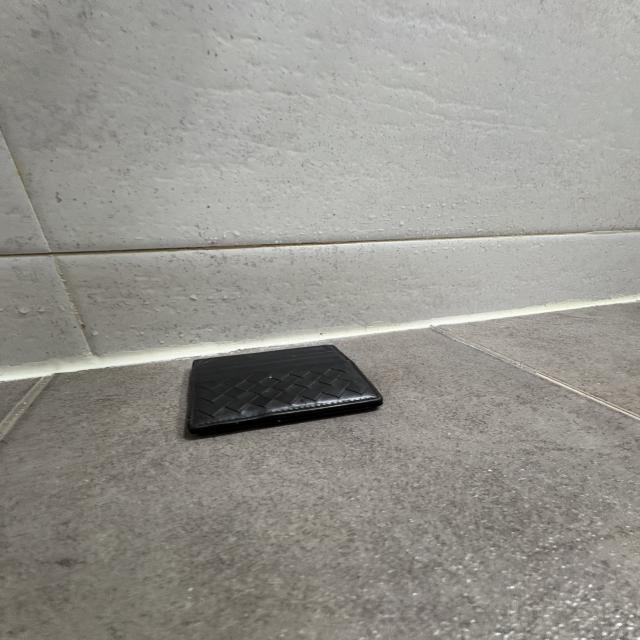wallet: (182, 343, 387, 445)
